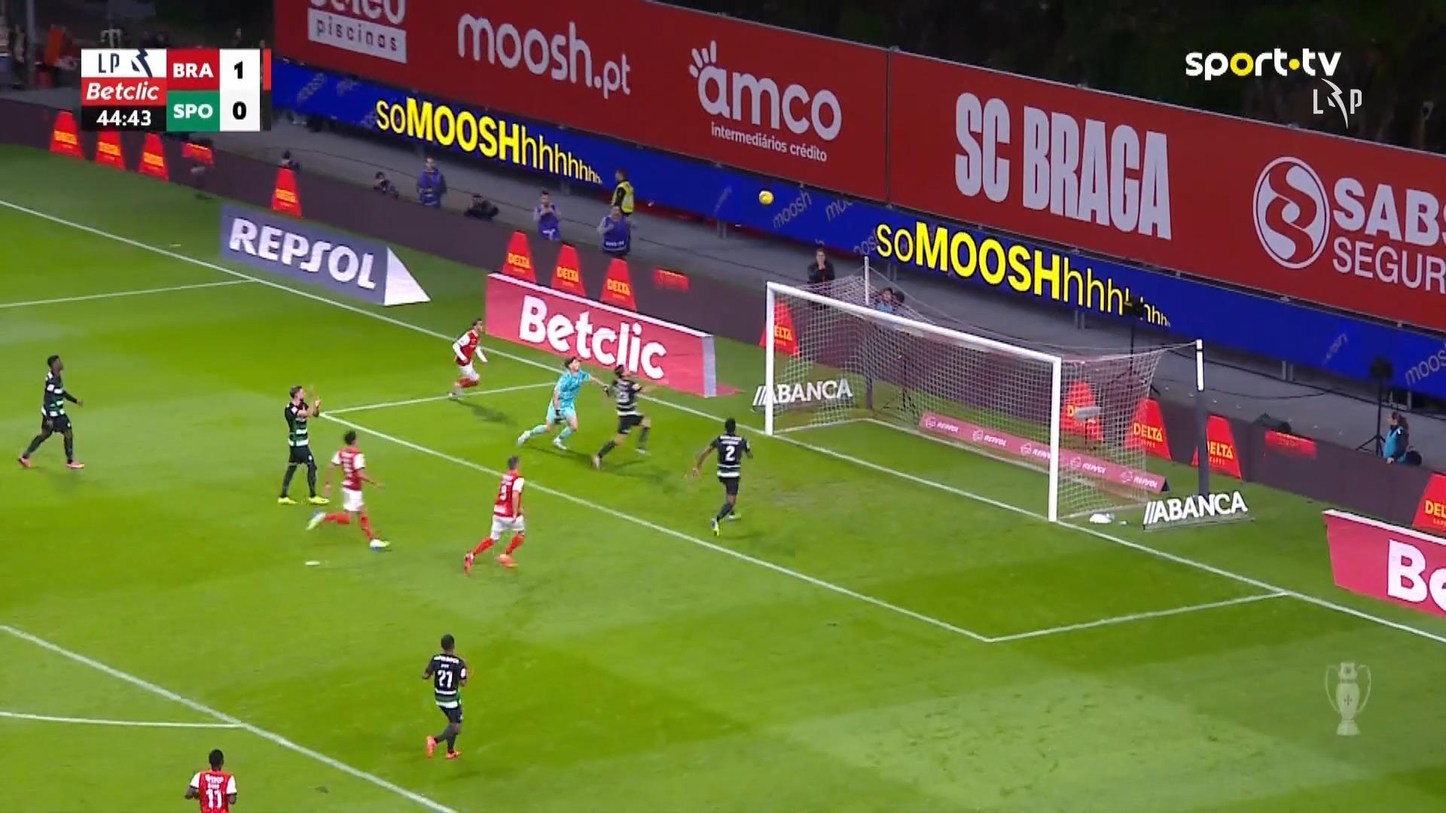ball: (758, 190, 773, 205)
goalkeeper: (515, 354, 606, 451)
player: (305, 429, 391, 550), (17, 353, 85, 470), (462, 455, 526, 575), (690, 416, 753, 537), (590, 362, 654, 470), (420, 633, 471, 760), (276, 384, 329, 505), (447, 317, 489, 400), (185, 748, 237, 811)
